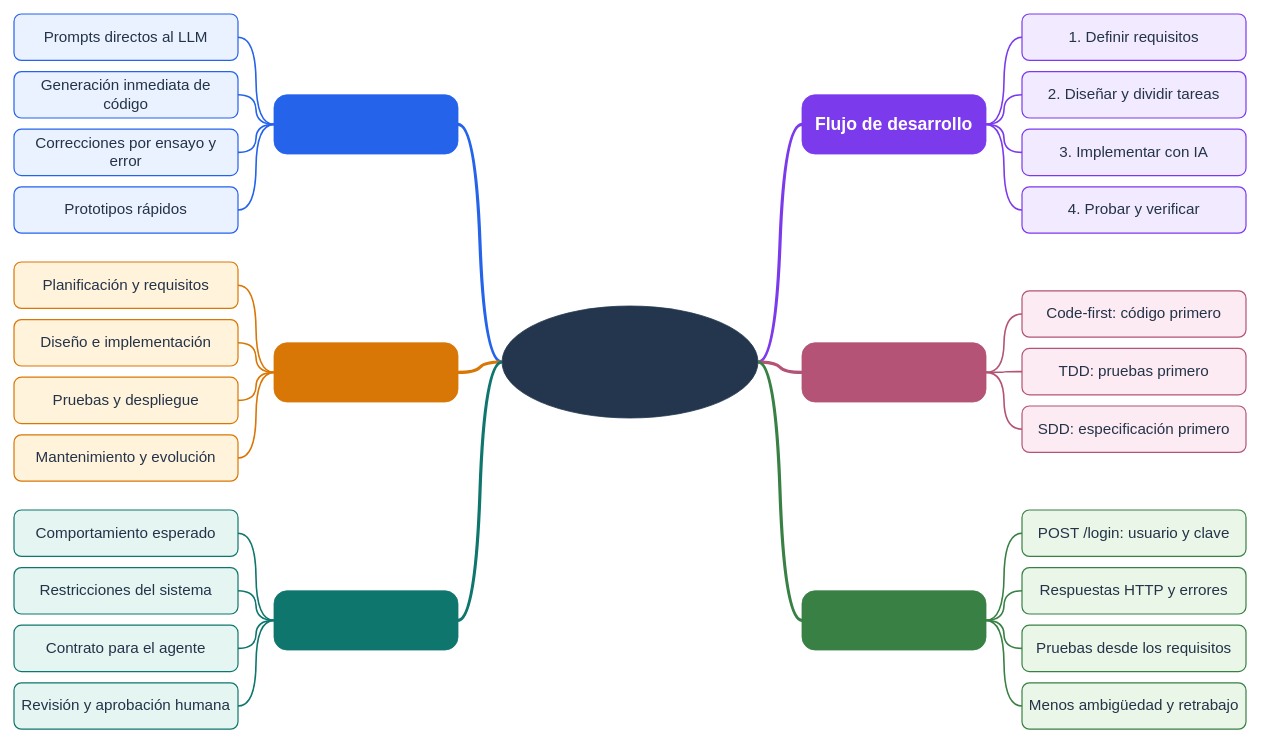
Image size: 1261x744. Some labels were removed from this diagram. The shapes that lost their labels are listed below. From the top down, each one's centre as x and y in pixels, then its label:
point 365,124: Vibe Coding
point 365,372: Ciclo de vida (SDLC)
point 629,361: SPEC-DRIVEN DEVELOPMENT (SDD)
point 893,372: Otros enfoques
point 365,620: Especificación
point 893,620: Ejemplo y beneficios
